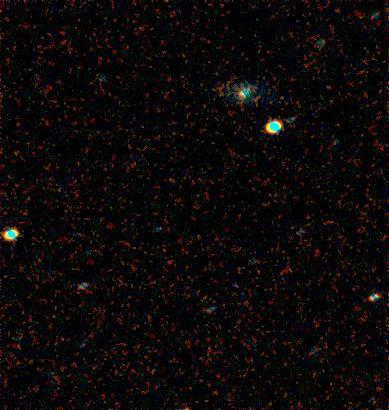star: (267, 77, 297, 107)
